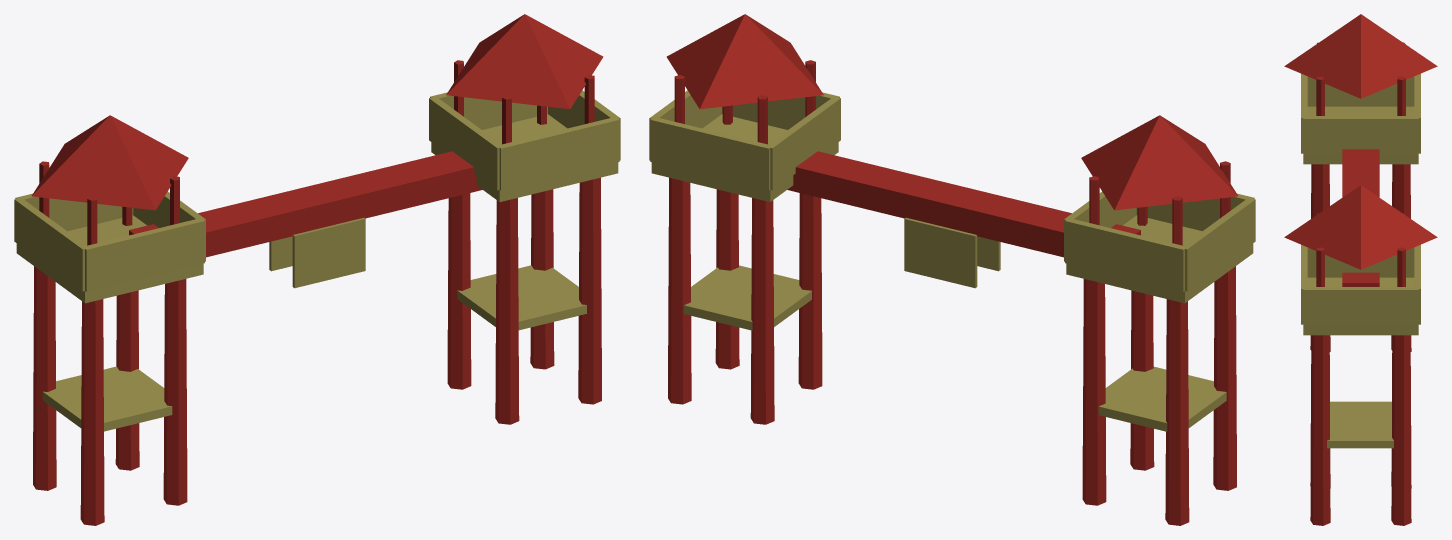
File: macaque_gate_broken.glb
The picture shows the model from 3 angles, left to right: view 1: azimuth 30°, elevation 25°; view 2: azimuth 150°, elevation 25°; view 3: azimuth 270°, elevation 25°; orthographic projection. The views are drawn at different scales.
Parts seen in each view (by area): view 1: macaque_gate_piece3, macaque_gate_piece4, macaque_gate_piece2, macaque_gate_piece9, macaque_gate_piece5, macaque_gate_piece0, macaque_gate_piece1, macaque_gate_piece13, macaque_gate_piece10, macaque_gate_piece6, macaque_gate_piece11, macaque_gate_piece7 (+2 smaller); view 2: macaque_gate_piece3, macaque_gate_piece2, macaque_gate_piece4, macaque_gate_piece9, macaque_gate_piece1, macaque_gate_piece10, macaque_gate_piece13, macaque_gate_piece8, macaque_gate_piece5, macaque_gate_piece11, macaque_gate_piece0, macaque_gate_piece12 (+2 smaller); view 3: macaque_gate_piece1, macaque_gate_piece2, macaque_gate_piece3, macaque_gate_piece5, macaque_gate_piece10, macaque_gate_piece8, macaque_gate_piece4, macaque_gate_piece0, macaque_gate_piece7, macaque_gate_piece6, macaque_gate_piece12.
Boxes of the visible parts, box(x1,y1,x2,y2) form: macaque_gate_piece3: box(429, 14, 605, 293); macaque_gate_piece4: box(410, 86, 601, 398); macaque_gate_piece2: box(14, 115, 217, 381); macaque_gate_piece9: box(283, 94, 497, 282); macaque_gate_piece5: box(123, 184, 205, 505); macaque_gate_piece0: box(54, 173, 175, 321); macaque_gate_piece1: box(525, 47, 620, 369); macaque_gate_piece13: box(33, 315, 139, 525); macaque_gate_piece10: box(447, 202, 601, 424); macaque_gate_piece6: box(106, 208, 317, 467); macaque_gate_piece11: box(33, 369, 141, 484); macaque_gate_piece7: box(33, 165, 179, 389); macaque_gate_piece3: box(650, 14, 815, 325); macaque_gate_piece2: box(1062, 115, 1237, 425); macaque_gate_piece4: box(730, 60, 844, 350); macaque_gate_piece9: box(822, 93, 1005, 276); macaque_gate_piece1: box(649, 47, 738, 404); macaque_gate_piece10: box(715, 241, 822, 424); macaque_gate_piece13: box(1123, 280, 1236, 525); macaque_gate_piece8: box(1013, 209, 1176, 429); macaque_gate_piece5: box(1105, 204, 1168, 470); macaque_gate_piece11: box(1098, 389, 1194, 525); macaque_gate_piece0: box(1140, 133, 1255, 300); macaque_gate_piece12: box(930, 200, 1032, 288); macaque_gate_piece1: box(1301, 249, 1420, 525); macaque_gate_piece2: box(1320, 14, 1437, 218); macaque_gate_piece3: box(1284, 185, 1437, 431); macaque_gate_piece5: box(1301, 81, 1392, 351); macaque_gate_piece10: box(1310, 353, 1411, 525); macaque_gate_piece8: box(1352, 120, 1420, 218); macaque_gate_piece4: box(1301, 213, 1381, 464); macaque_gate_piece0: box(1284, 42, 1349, 115); macaque_gate_piece7: box(1314, 41, 1392, 205); macaque_gate_piece6: box(1342, 127, 1411, 351); macaque_gate_piece12: box(1351, 178, 1379, 197).
Bounding box in the file's own units: 4.83 × 3.05 × 1.33.
